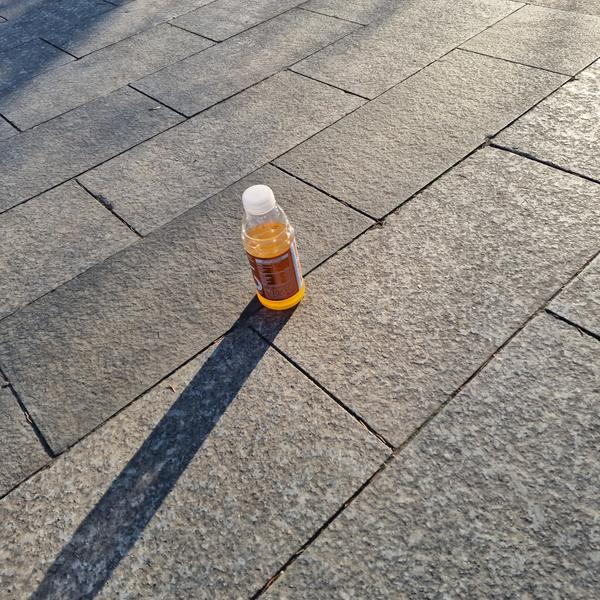plastic_bottle: (232, 178, 309, 314)
